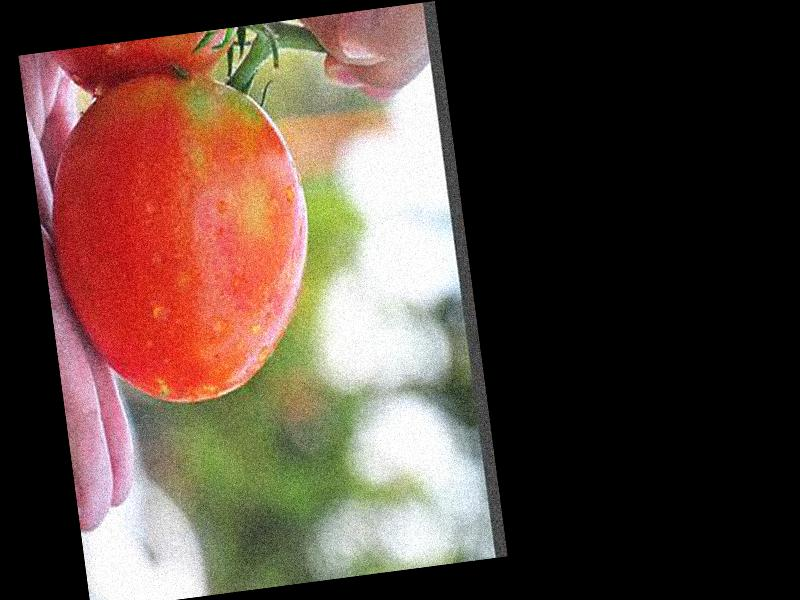Tomato: (36, 60, 329, 415)
